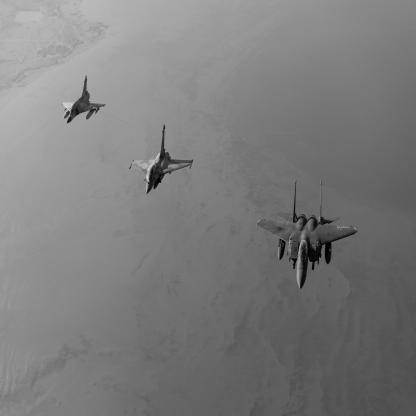F15: (257, 181, 359, 291)
Mirage2000: (63, 76, 107, 125)
Rafale: (130, 125, 194, 195)
